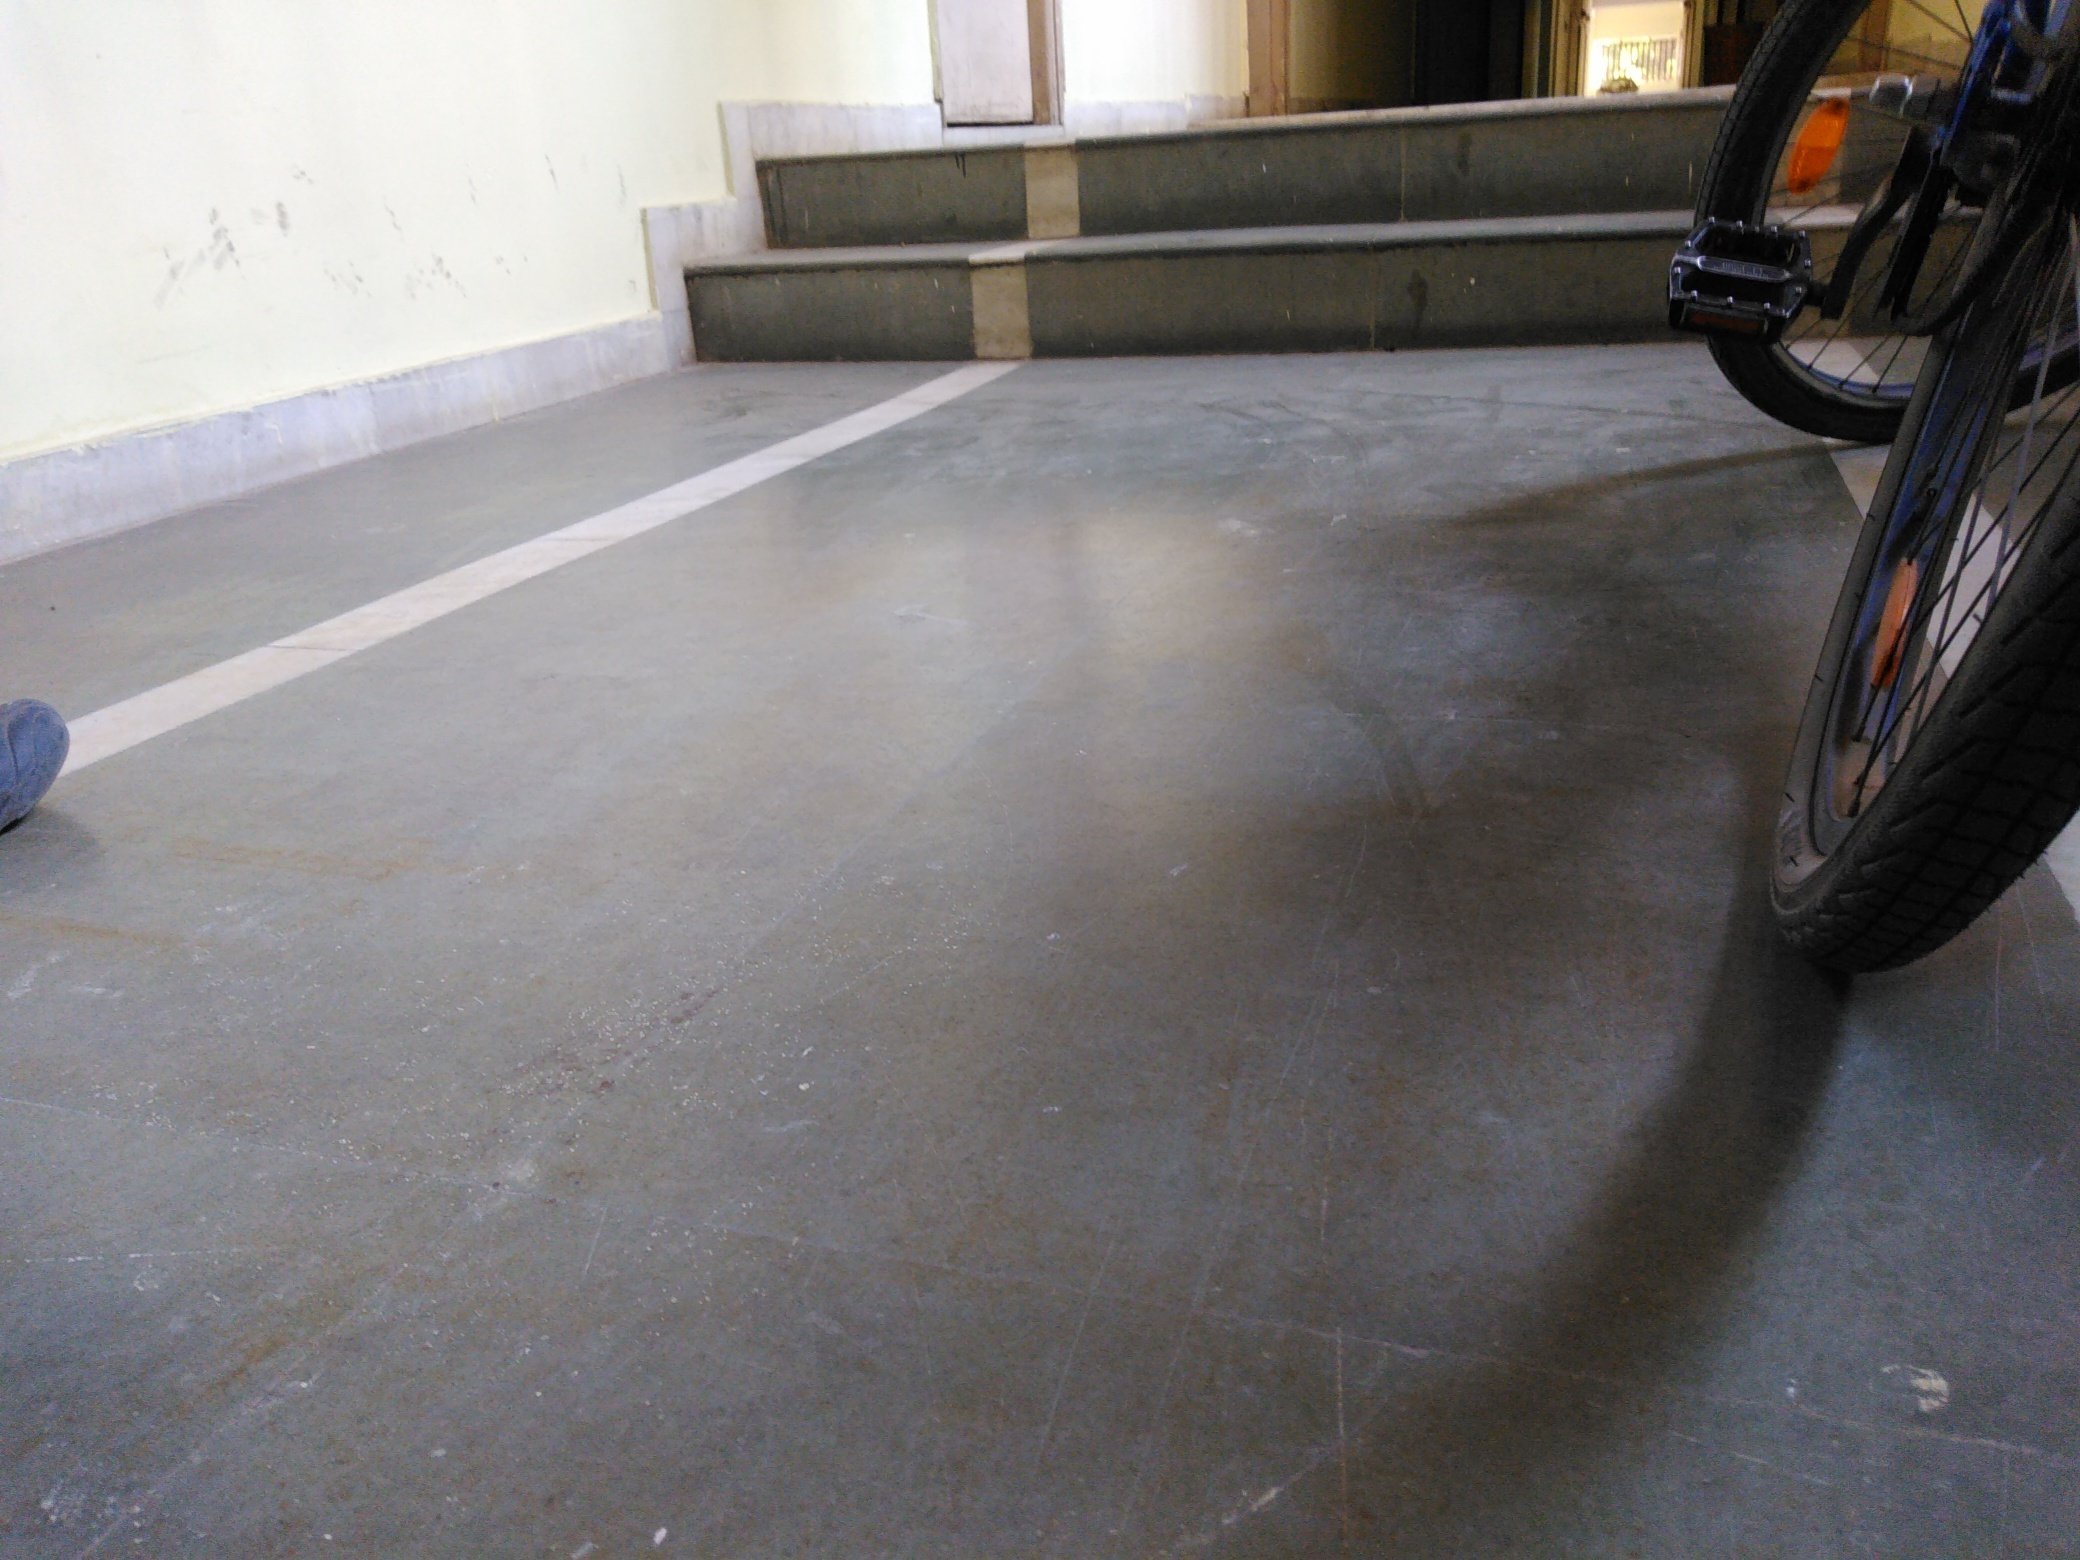stairs_up: (709, 98, 1697, 380)
